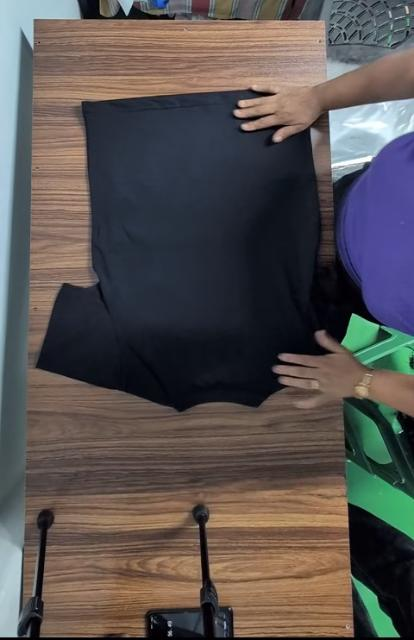new-garment: (37, 91, 351, 411)
